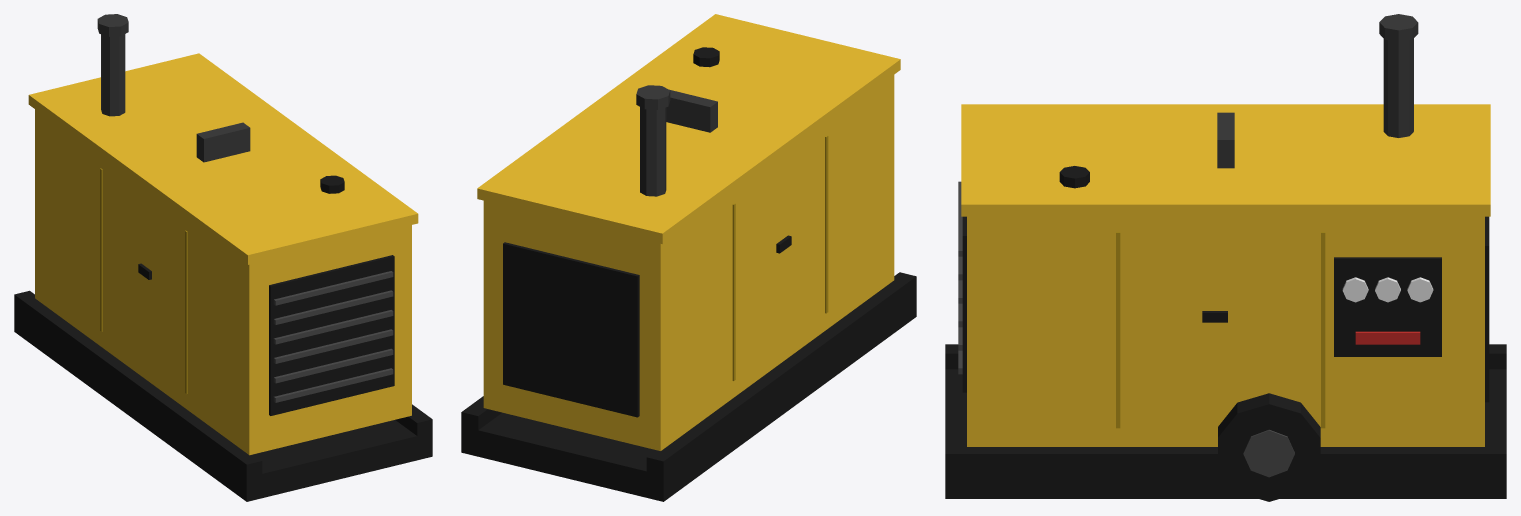
The model's file is Mining_Generator.fbx.
3 views of the same model, side by side, from view 1: azimuth 30°, elevation 25°; view 2: azimuth 150°, elevation 25°; view 3: azimuth 270°, elevation 25° (orthographic). The views are drawn at different scales.
Parts seen in each view (by area): view 1: Mining_Generator; view 2: Mining_Generator; view 3: Mining_Generator.
Boxes of the visible parts, left/top/right/bottom form: Mining_Generator: left=14, top=14, right=432, bottom=501; Mining_Generator: left=461, top=14, right=916, bottom=501; Mining_Generator: left=945, top=14, right=1506, bottom=501.
Size of the model in its own units: 1.35 by 2.04 by 2.6.
